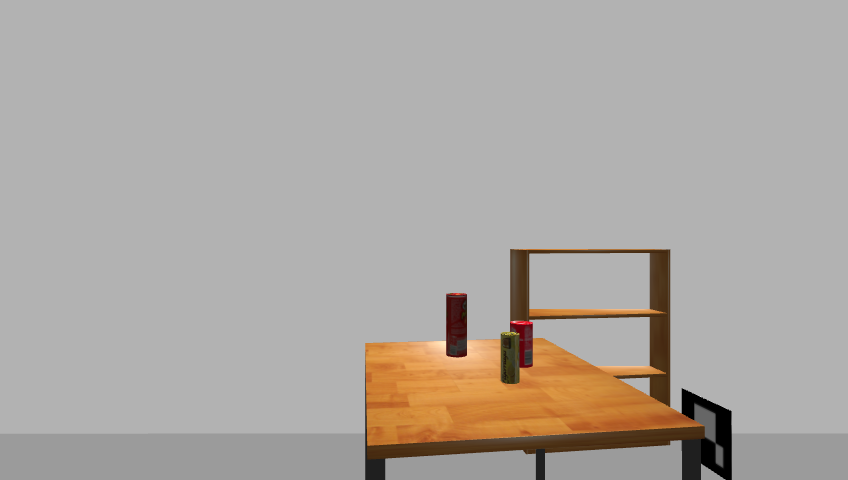aruco marker: (675, 388, 736, 480)
biscuits pack: (500, 332, 520, 384)
bookshelf: (505, 245, 679, 476)
coke can: (512, 320, 535, 369)
dinner table: (357, 336, 709, 480)
pringles can: (443, 292, 470, 359)
